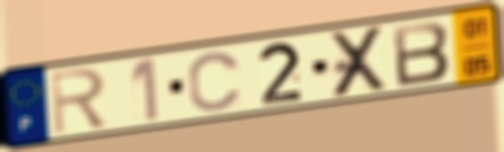1: (126, 55, 161, 126)
2: (257, 40, 306, 108)
B: (389, 19, 453, 89)
C: (186, 49, 245, 114)
R: (48, 65, 111, 137)
X: (329, 23, 392, 101)
